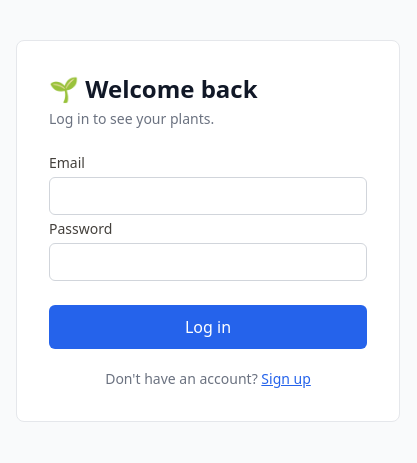
Test case: Login › shows field-specific errors when submitted empty
Click the button "Log in": [208, 327] box [49, 305, 367, 349]
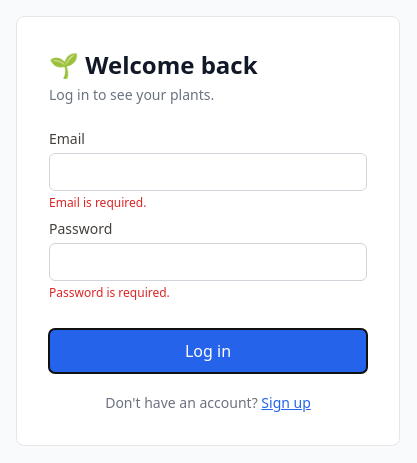
Check: the text "Email is required." is shown, box [49, 194, 146, 211]
Check: the text "Password is required." is shown, box [49, 284, 170, 301]
